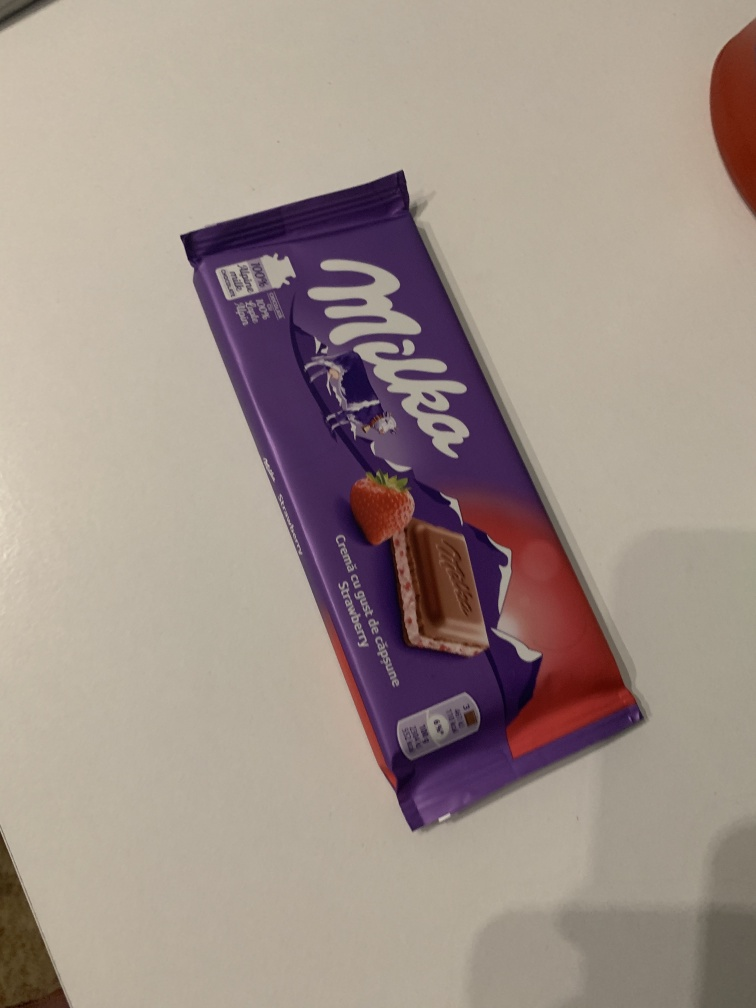milka: (170, 162, 678, 844)
